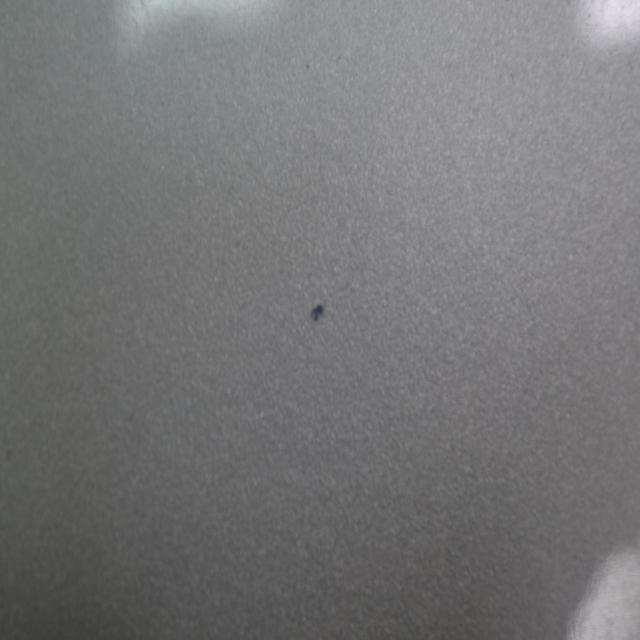dirt: (308, 298, 326, 326)
